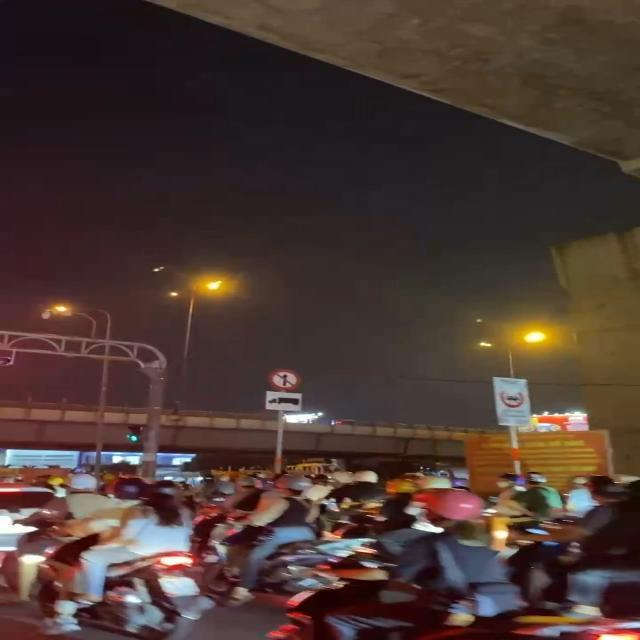136-cam-di-thang: (266, 367, 302, 389)
